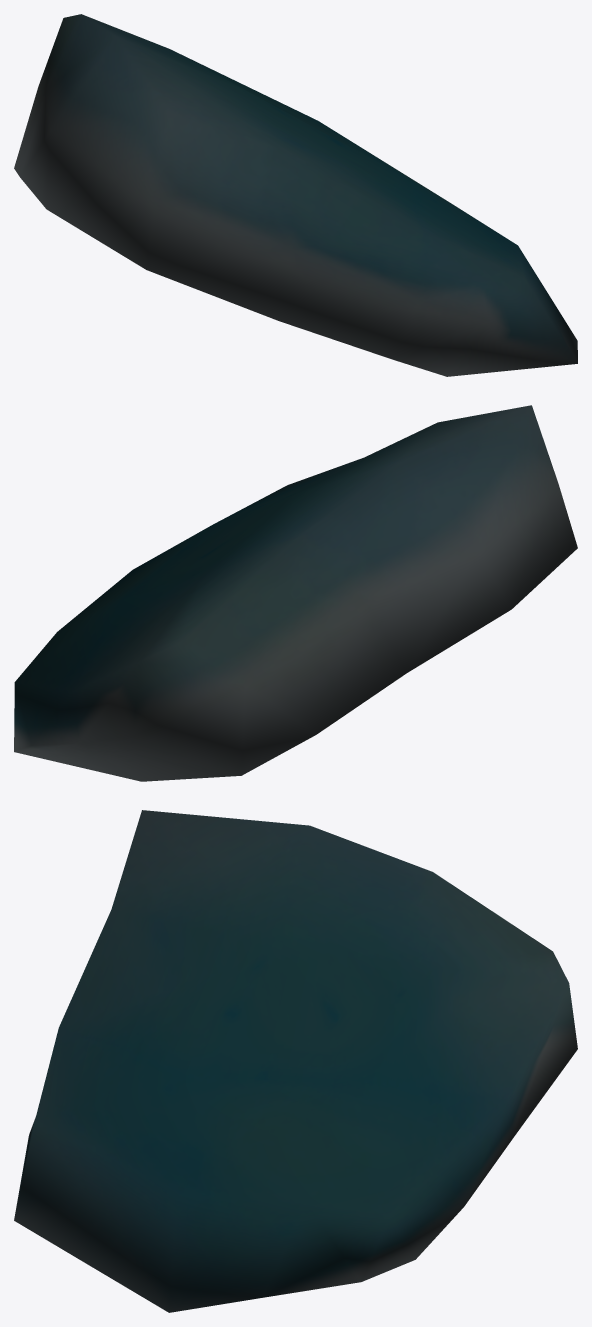
File: stone07.fbx
3 views of the same model, one above another, from view 1: azimuth 30°, elevation 25°; view 2: azimuth 150°, elevation 25°; view 3: azimuth 270°, elevation 25° (orthographic). The views are drawn at different scales.
Parts seen in each view (by area): view 1: polySurface20; view 2: polySurface20; view 3: polySurface20.
Part boxes in pixels (<box>): polySurface20: <box>14,14,577,376</box>; polySurface20: <box>14,405,577,781</box>; polySurface20: <box>14,810,577,1312</box>.
Size of the model in its own units: 0.9482 by 0.6557 by 1.06.
1 material, 1 textured.
